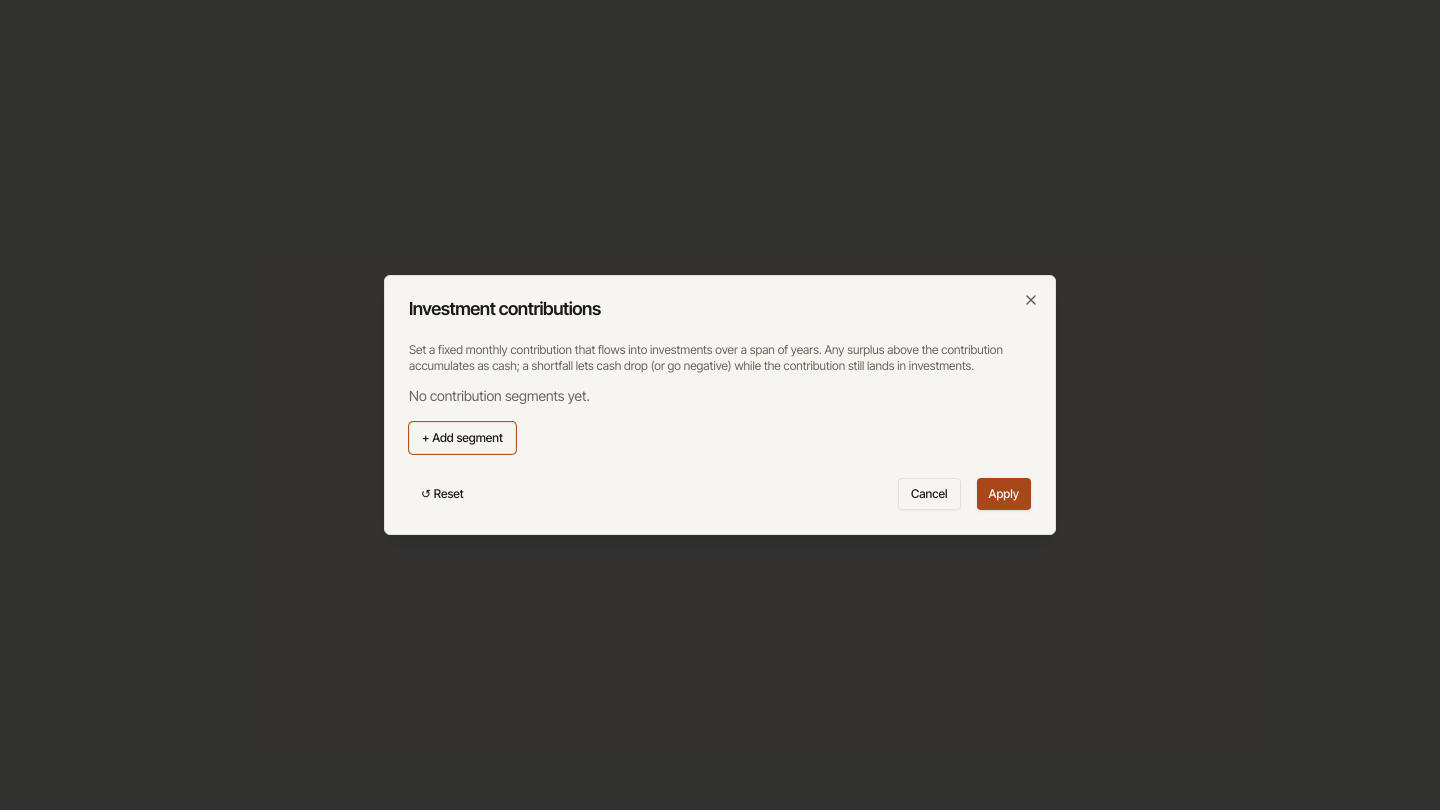
Scenario: ContributionsPopover — allocation UI › expander reveals historical mix and override checkbox
The width and height of the screenshot is (1440, 810).
Step 1. Click the button "+ Add segment" → x=462, y=438, box [409, 422, 516, 454]
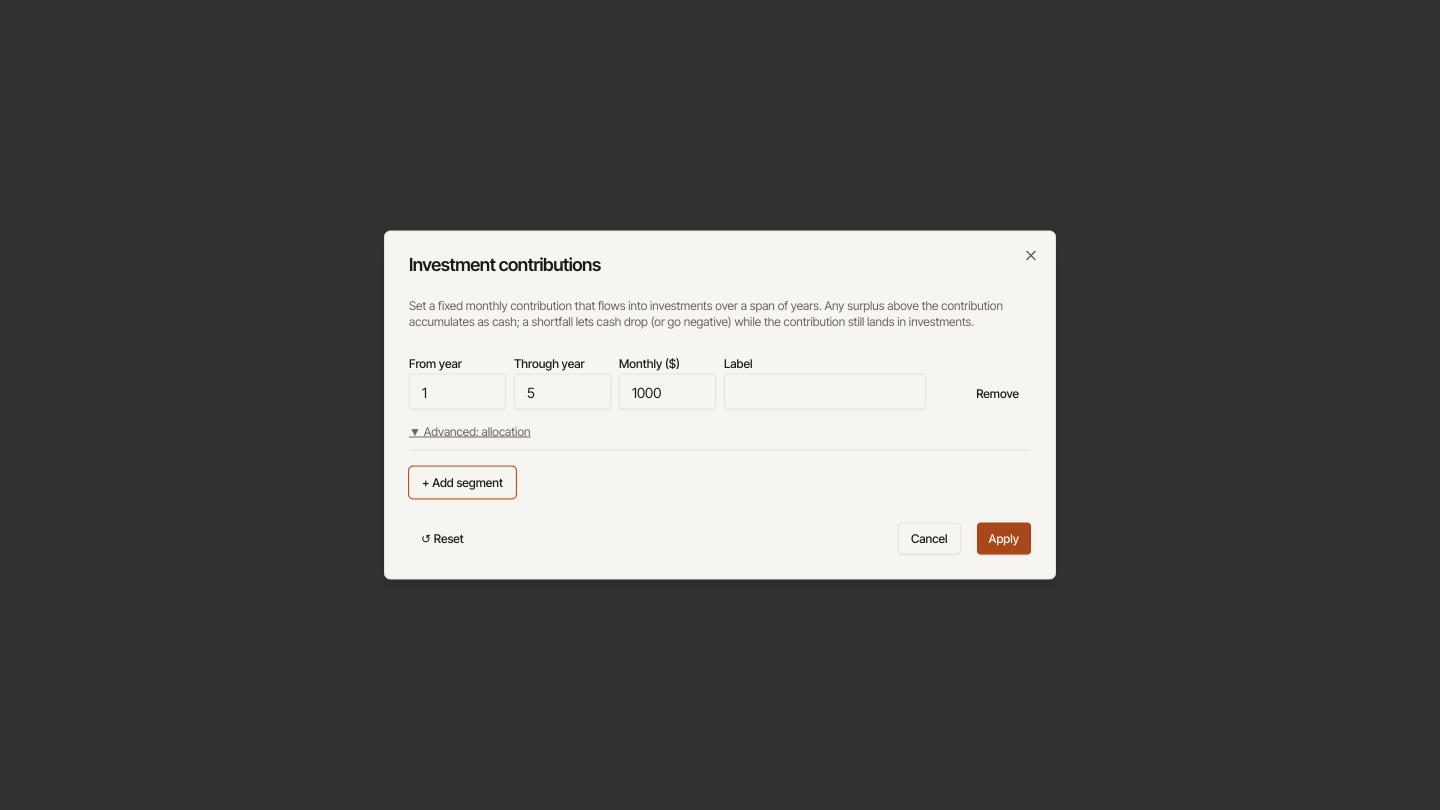
Step 2. Click the button "▼ Advanced: allocation" → x=470, y=432, box [409, 424, 530, 440]
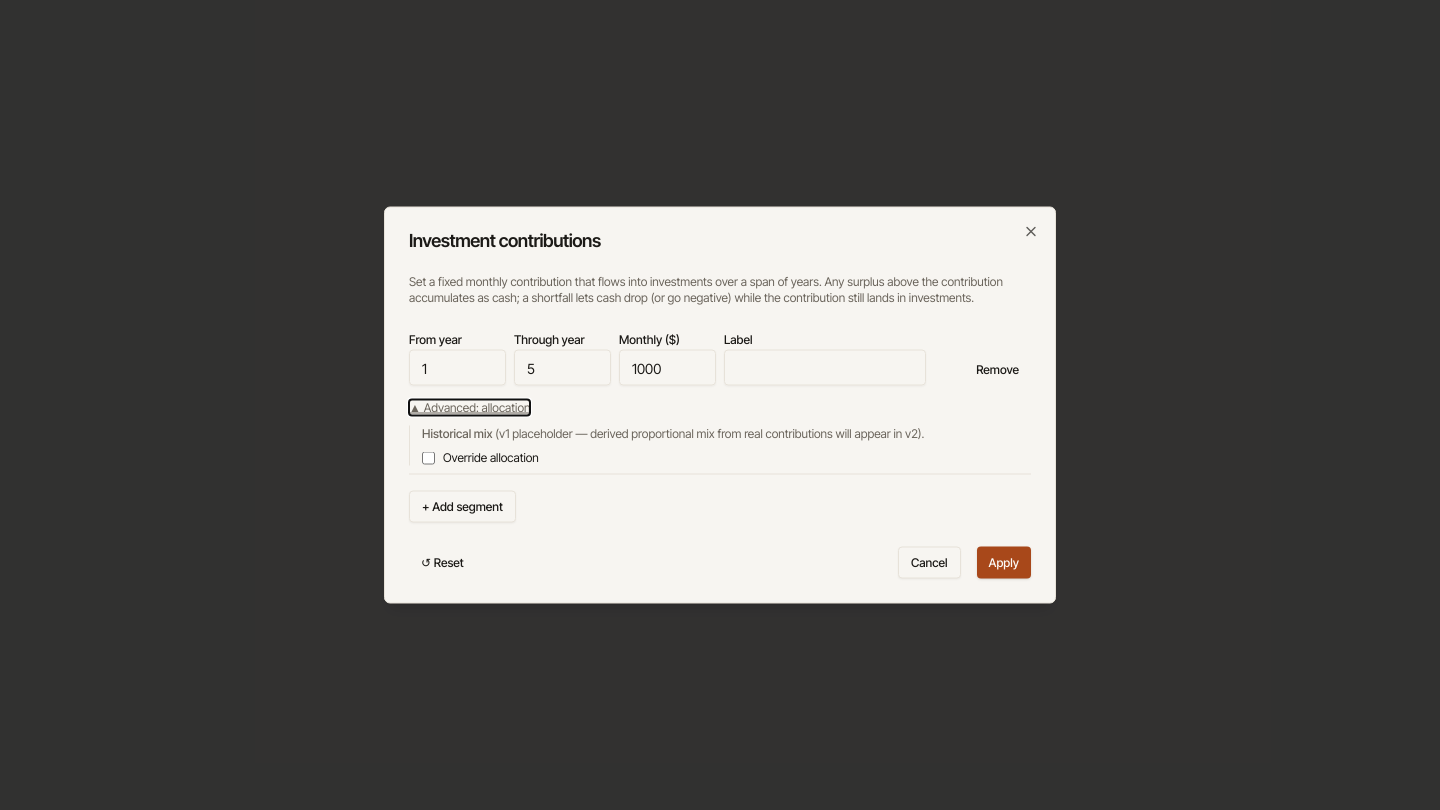
Expected: the text "Historical mix" is shown, [422, 426, 492, 440]
Expected: the checkbox labelled "Override allocation" is shown, [422, 451, 435, 464]
